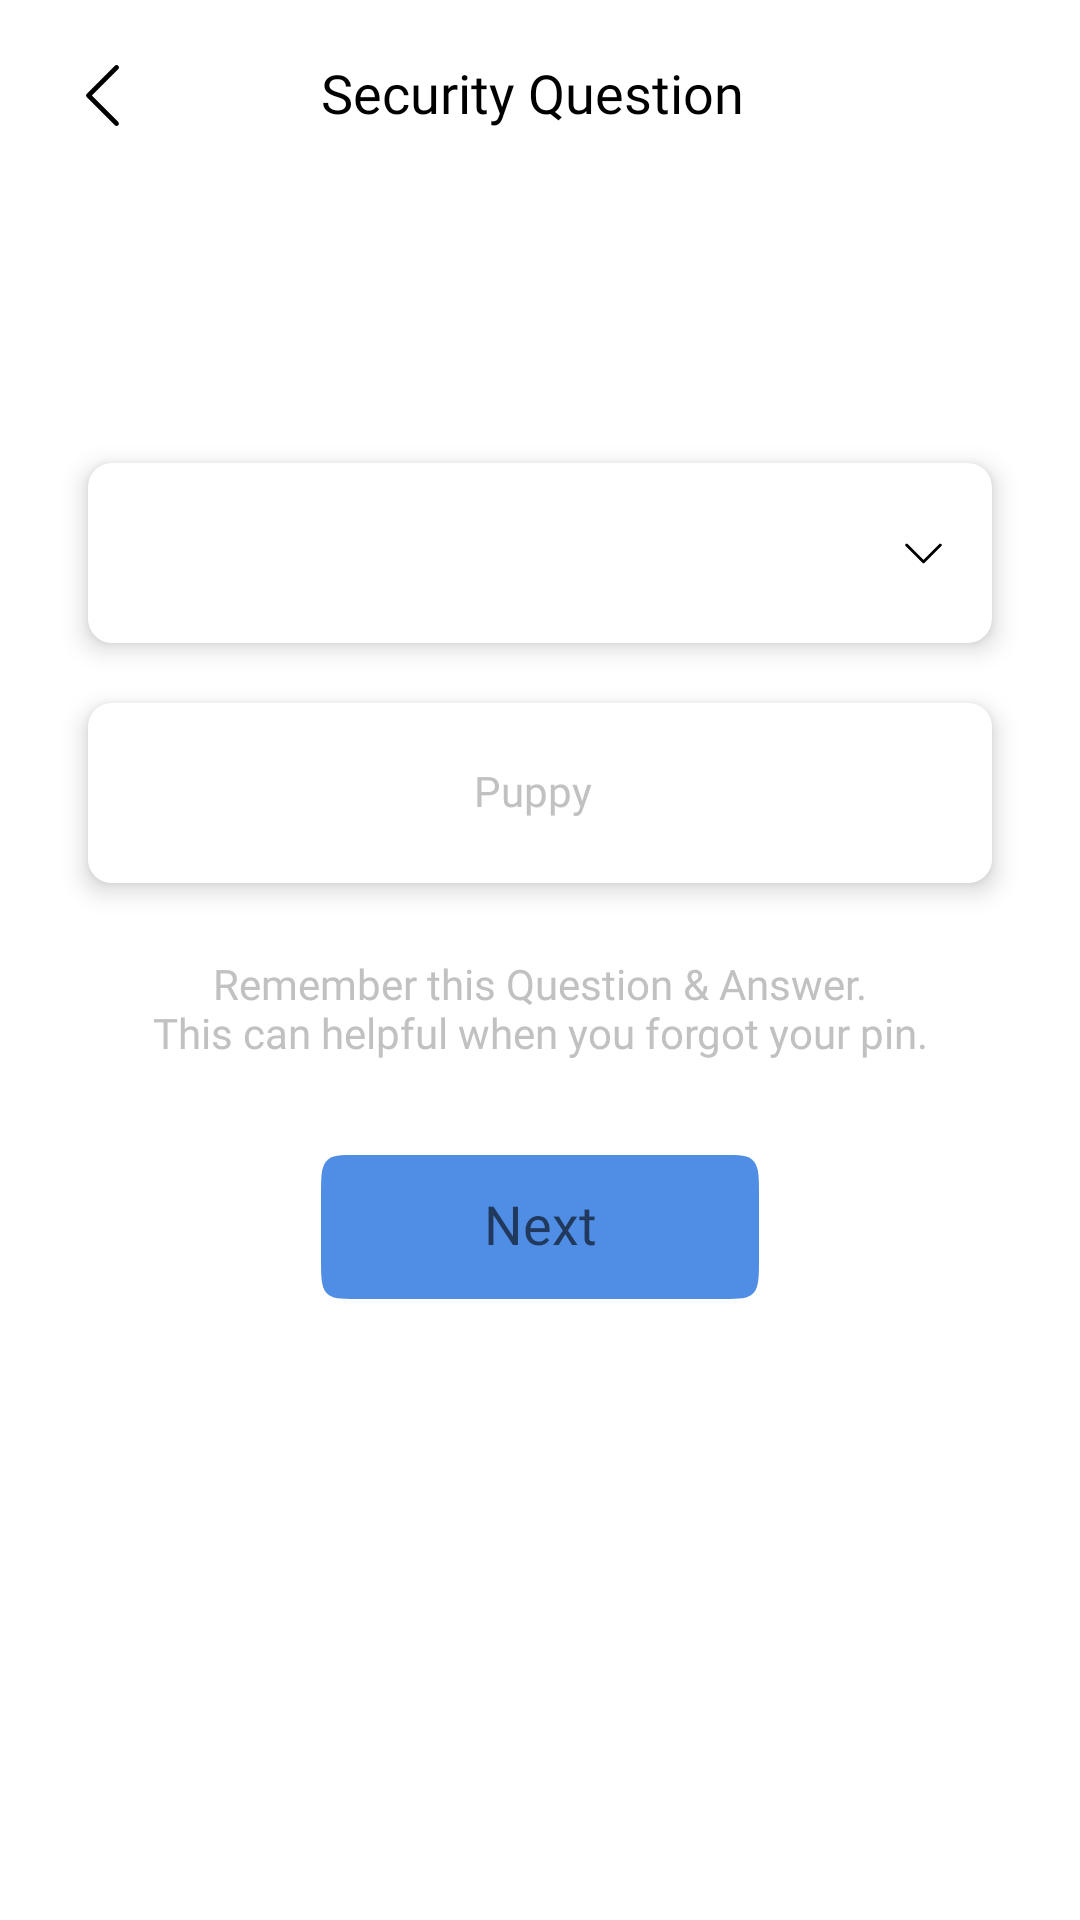

Icons on this 1080px x 1920px Android screen, each with the point to tap as (x,y):
back: (102,95)
down arrow: (923,553)
